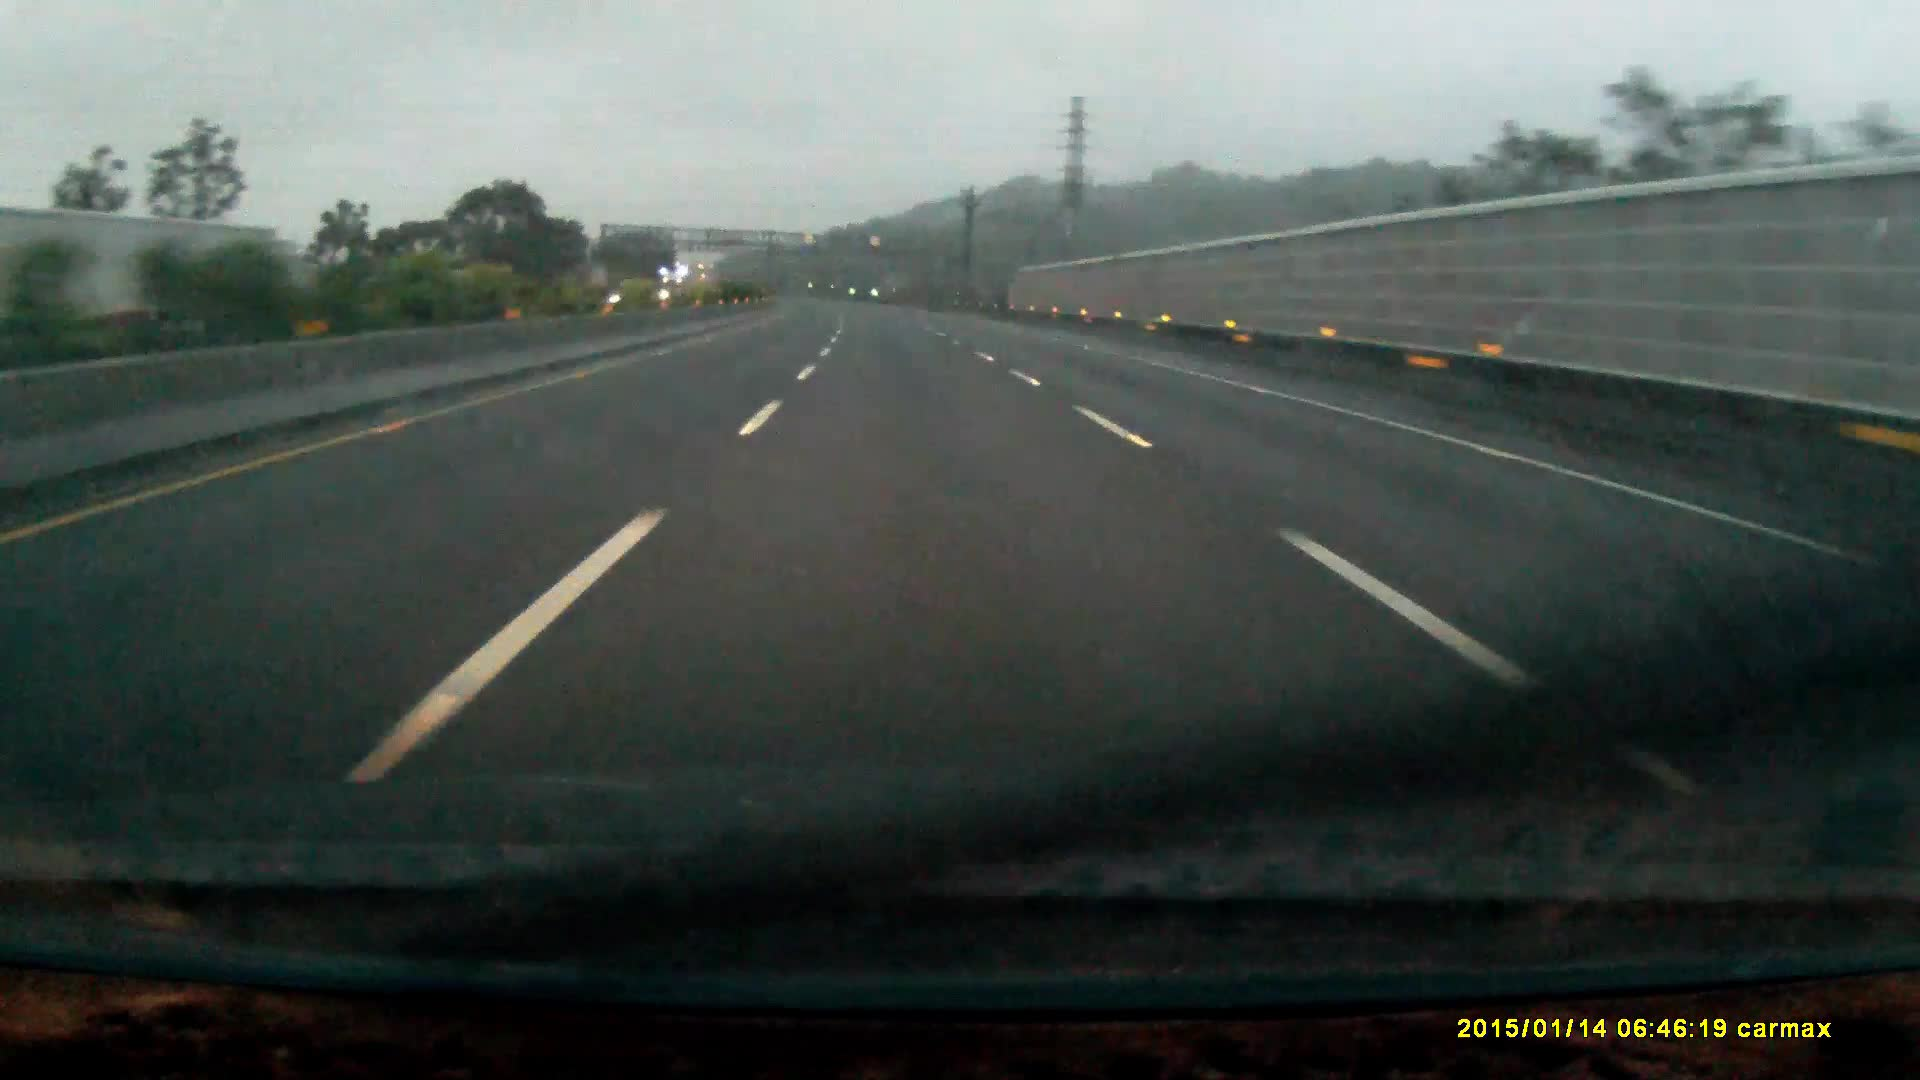vehicle: (658, 268, 696, 303)
